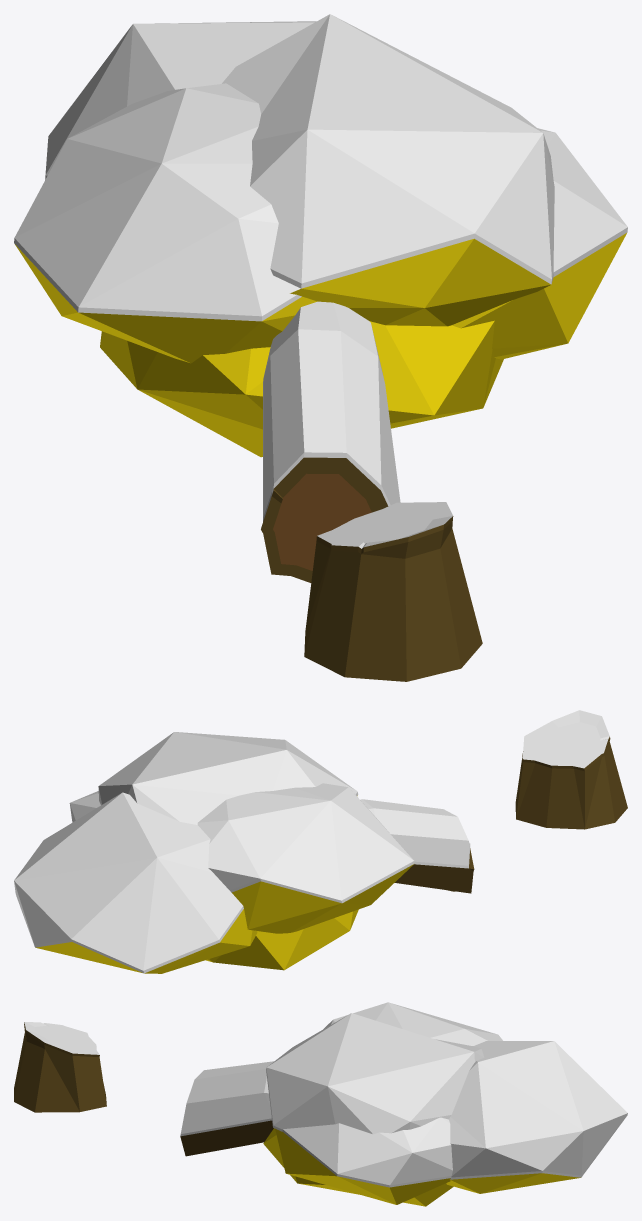
File: Tree#15_Snow.fbx
The picture shows the model from 3 angles, top to bottom: view 1: azimuth 30°, elevation 25°; view 2: azimuth 150°, elevation 25°; view 3: azimuth 270°, elevation 25°; orthographic projection. The views are drawn at different scales.
Visible parts, largest first — view 1: Tree#15_Snow; view 2: Tree#15_Snow; view 3: Tree#15_Snow.
Boxes of the visible parts, x1,y1,x2,y2 form: Tree#15_Snow: [14, 14, 627, 681]; Tree#15_Snow: [14, 710, 627, 973]; Tree#15_Snow: [14, 1002, 627, 1206].
Bounding box in the file's own units: 461 × 247 × 795.
